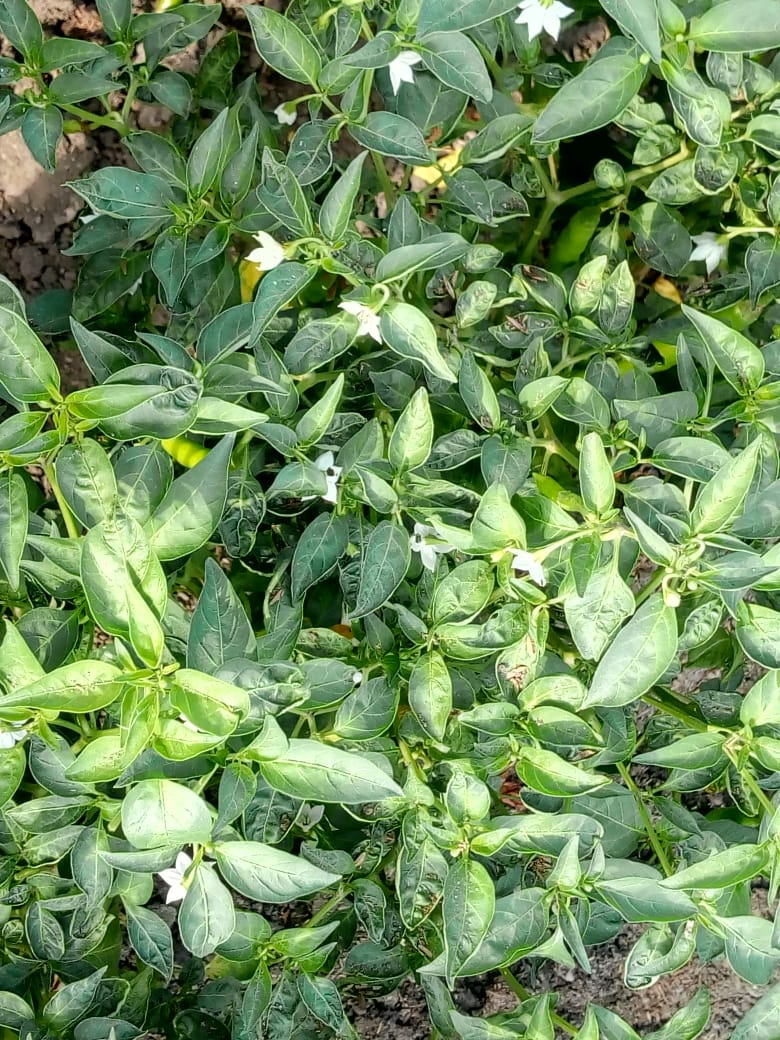thrips: (435, 565, 494, 627), (221, 478, 264, 558), (411, 849, 447, 930), (602, 258, 635, 333), (350, 880, 386, 943), (695, 145, 739, 194), (679, 602, 723, 645), (486, 601, 530, 641), (636, 126, 678, 151)
